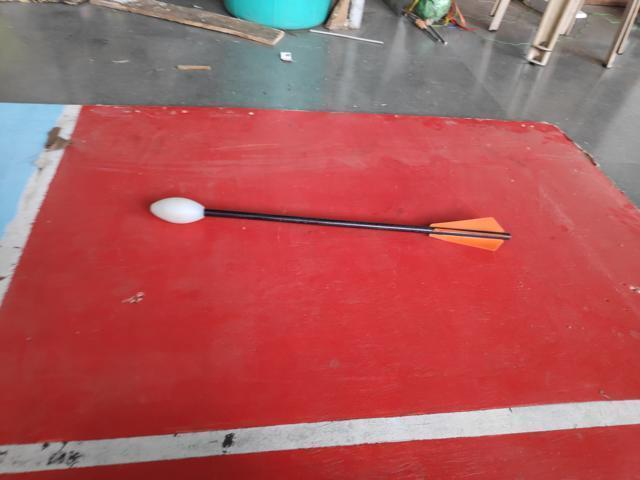Head: (148, 195, 208, 225)
Tail: (425, 217, 513, 253)
